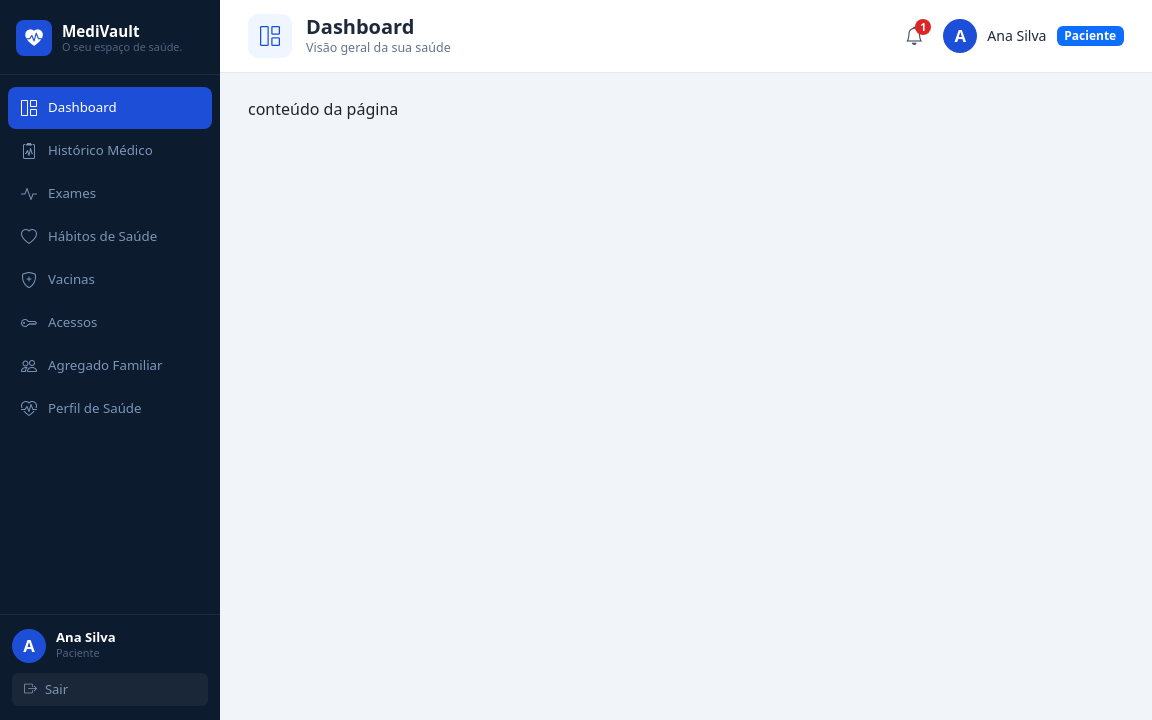
Layout › lists pending requests in the notification dropdown when the bell is clicked
Click the button named "Notificações". click: (914, 36)
box: top-left (895, 17), bottom-right (933, 55)
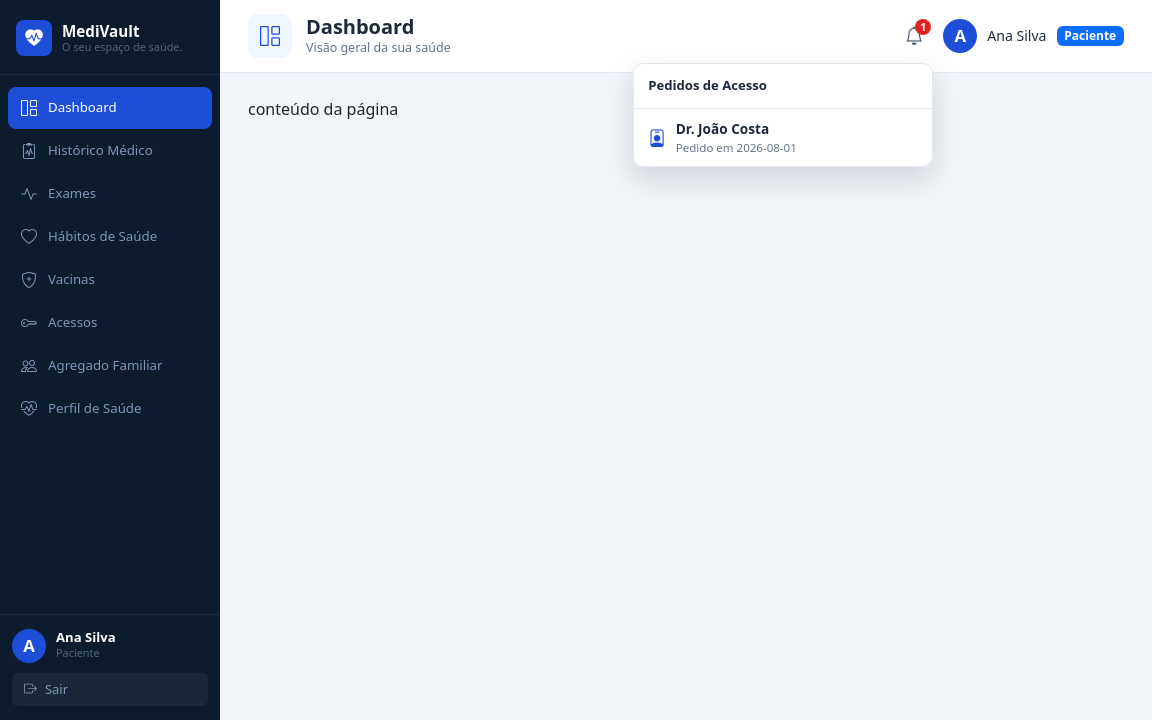
Expected: the text "Dr. João Costa" is shown, top-left (676, 119), bottom-right (769, 138)
